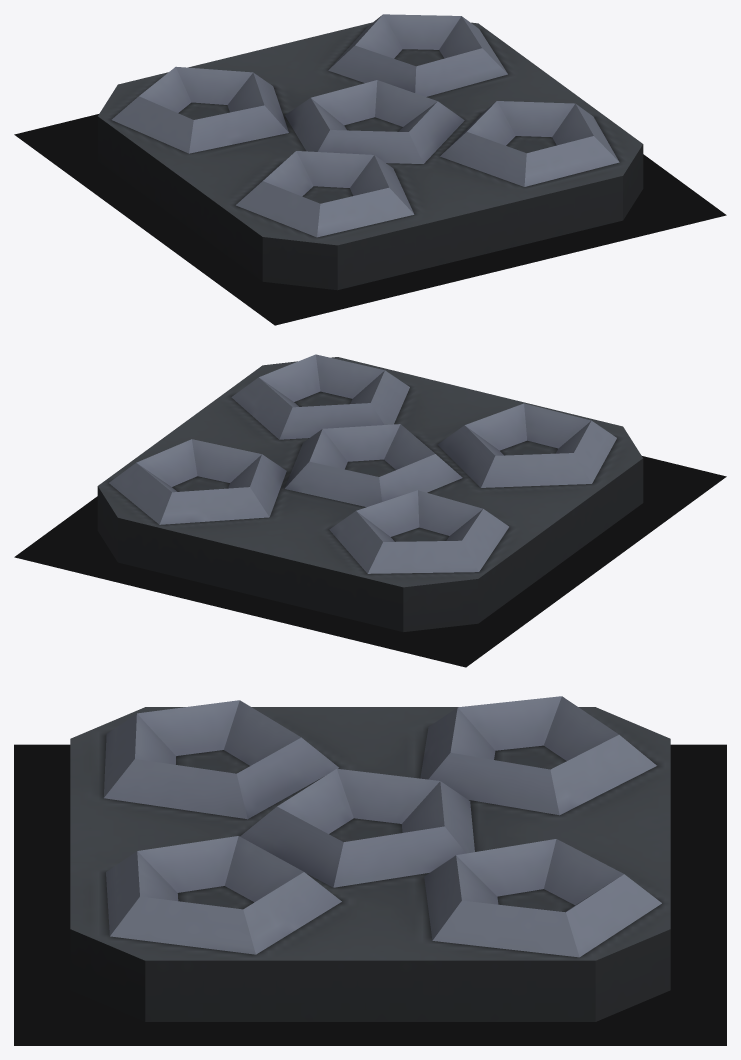
File: spike_trap_base.FBX
3 views of the same model, one above another, from view 1: azimuth 30°, elevation 25°; view 2: azimuth 150°, elevation 25°; view 3: azimuth 270°, elevation 25° (orthographic). The views are drawn at different scales.
Parts seen in each view (by area): view 1: spike_trap_base, spike_trap_soft_shadow; view 2: spike_trap_base, spike_trap_soft_shadow; view 3: spike_trap_base, spike_trap_soft_shadow.
Boxes of the visible parts, x1=… form: spike_trap_base: x1=97, y1=14, x2=643, y2=290; spike_trap_soft_shadow: x1=14, y1=114, x2=726, y2=325; spike_trap_base: x1=97, y1=354, x2=643, y2=631; spike_trap_soft_shadow: x1=14, y1=456, x2=726, y2=667; spike_trap_base: x1=70, y1=696, x2=670, y2=1021; spike_trap_soft_shadow: x1=14, y1=744, x2=726, y2=1045.
Bounding box in the file's own units: 1007 × 153 × 1007.
